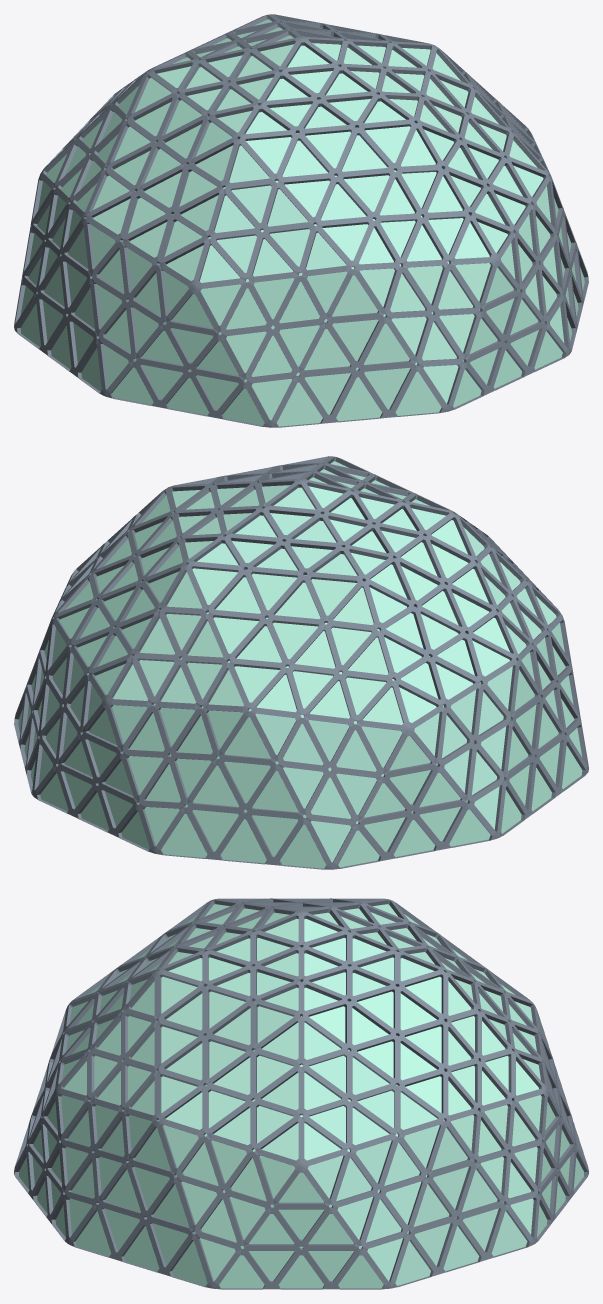
The model's file is domenewfinal501.glb.
3 views of the same model, one above another, from view 1: azimuth 30°, elevation 25°; view 2: azimuth 150°, elevation 25°; view 3: azimuth 270°, elevation 25° (orthographic). The views are drawn at different scales.
Visible parts, largest first — view 1: Icosphere; view 2: Icosphere; view 3: Icosphere.
Boxes of the visible parts, bbox=[...] form: Icosphere: bbox=[14, 14, 588, 427]; Icosphere: bbox=[14, 456, 588, 869]; Icosphere: bbox=[14, 898, 588, 1289].
Size of the model in its own units: 1.9 by 0.9981 by 1.99.
